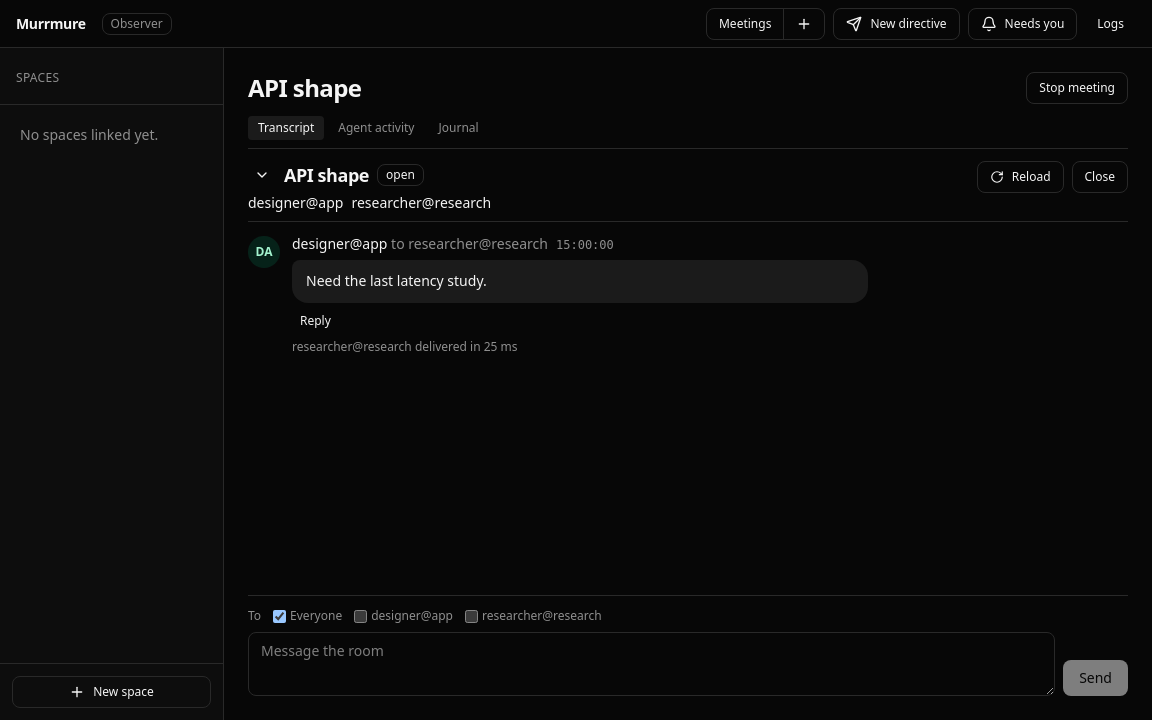
it: SessionPage meeting lens › lists every roster seat on Agent activity
What coordinates should you click on to do the following:
click the tab "Agent activity"
I would click on:
 (376, 128)
Its box is [328,116,424,140].
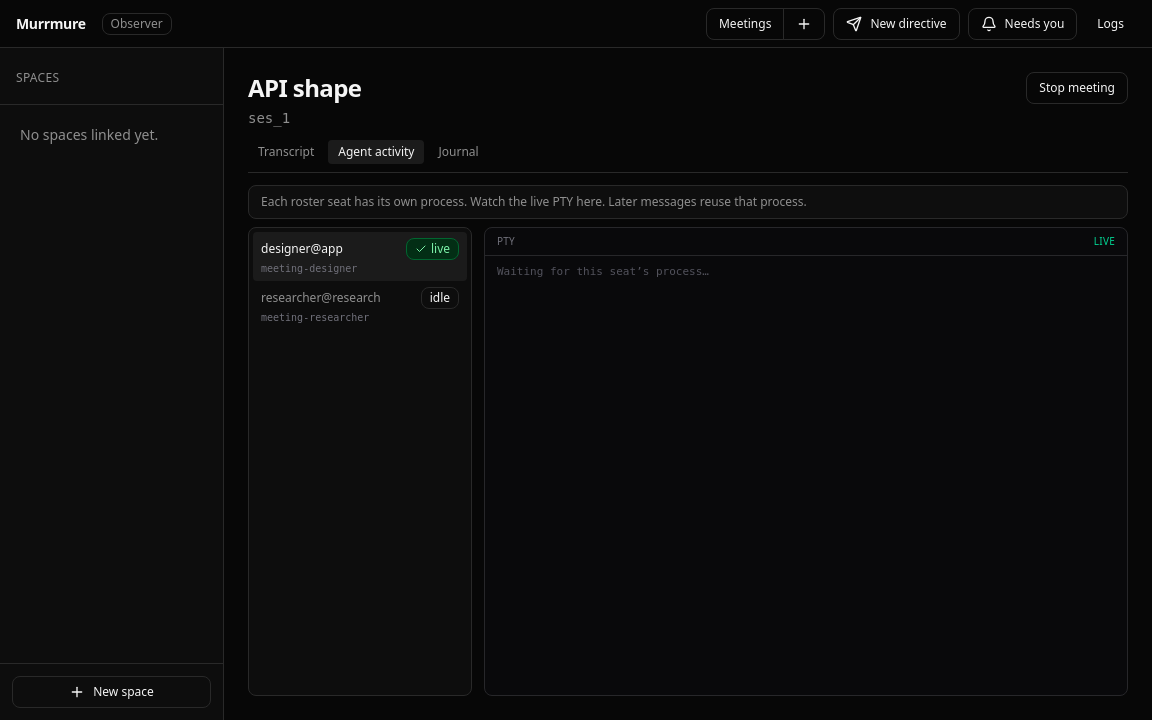
expect the text "Each roster seat has its own process. Watch the live PTY here. Later messages reuse that process." is shown: met, box [261,193,807,210]
expect the button "designer@app live meeting-designer" is shown: met, box [253,232,467,281]
expect the button "researcher@research idle meeting-researcher" is shown: met, box [253,281,467,331]
